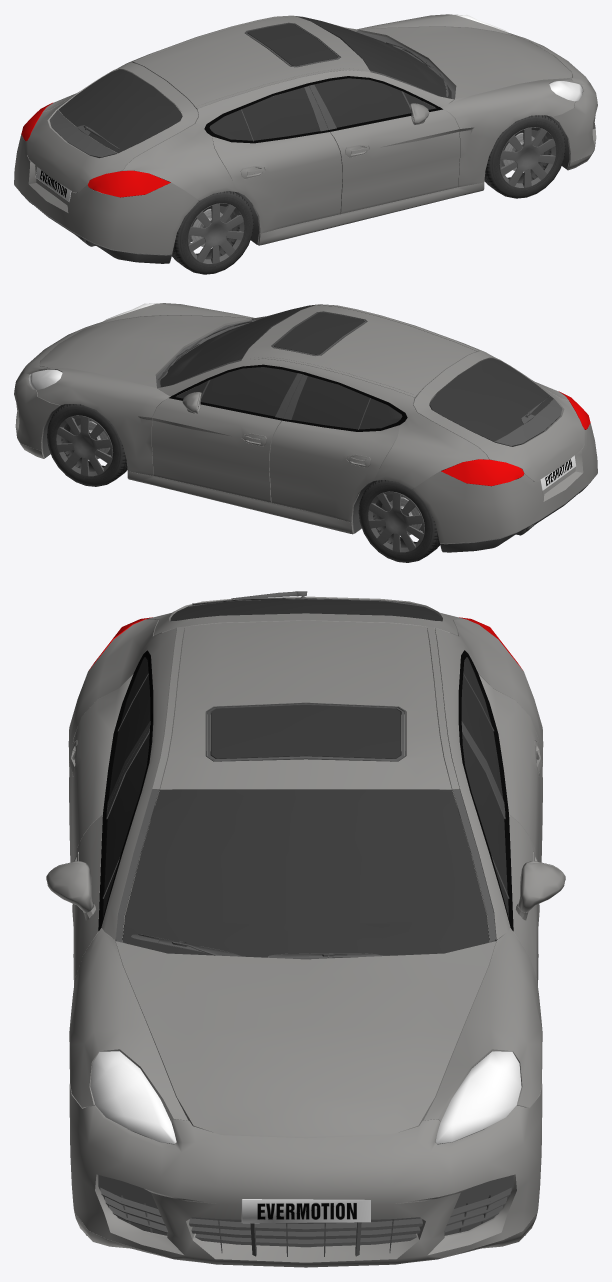
File: car.gltf
3 renders of one model, top to bottom at view 1: azimuth 30°, elevation 25°; view 2: azimuth 150°, elevation 25°; view 3: azimuth 270°, elevation 25°, orthographic. The views are drawn at different scales.
Visible parts, largest first — view 1: 轿车19; view 2: 轿车19; view 3: 轿车19.
Boxes of the visible parts, bbox=[...] form: 轿车19: bbox=[14, 14, 597, 274]; 轿车19: bbox=[14, 303, 597, 562]; 轿车19: bbox=[46, 591, 565, 1267].
Size of the model in its own units: 4.98 by 1.44 by 2.12.
Materials: 19 (3 with a texture image).
